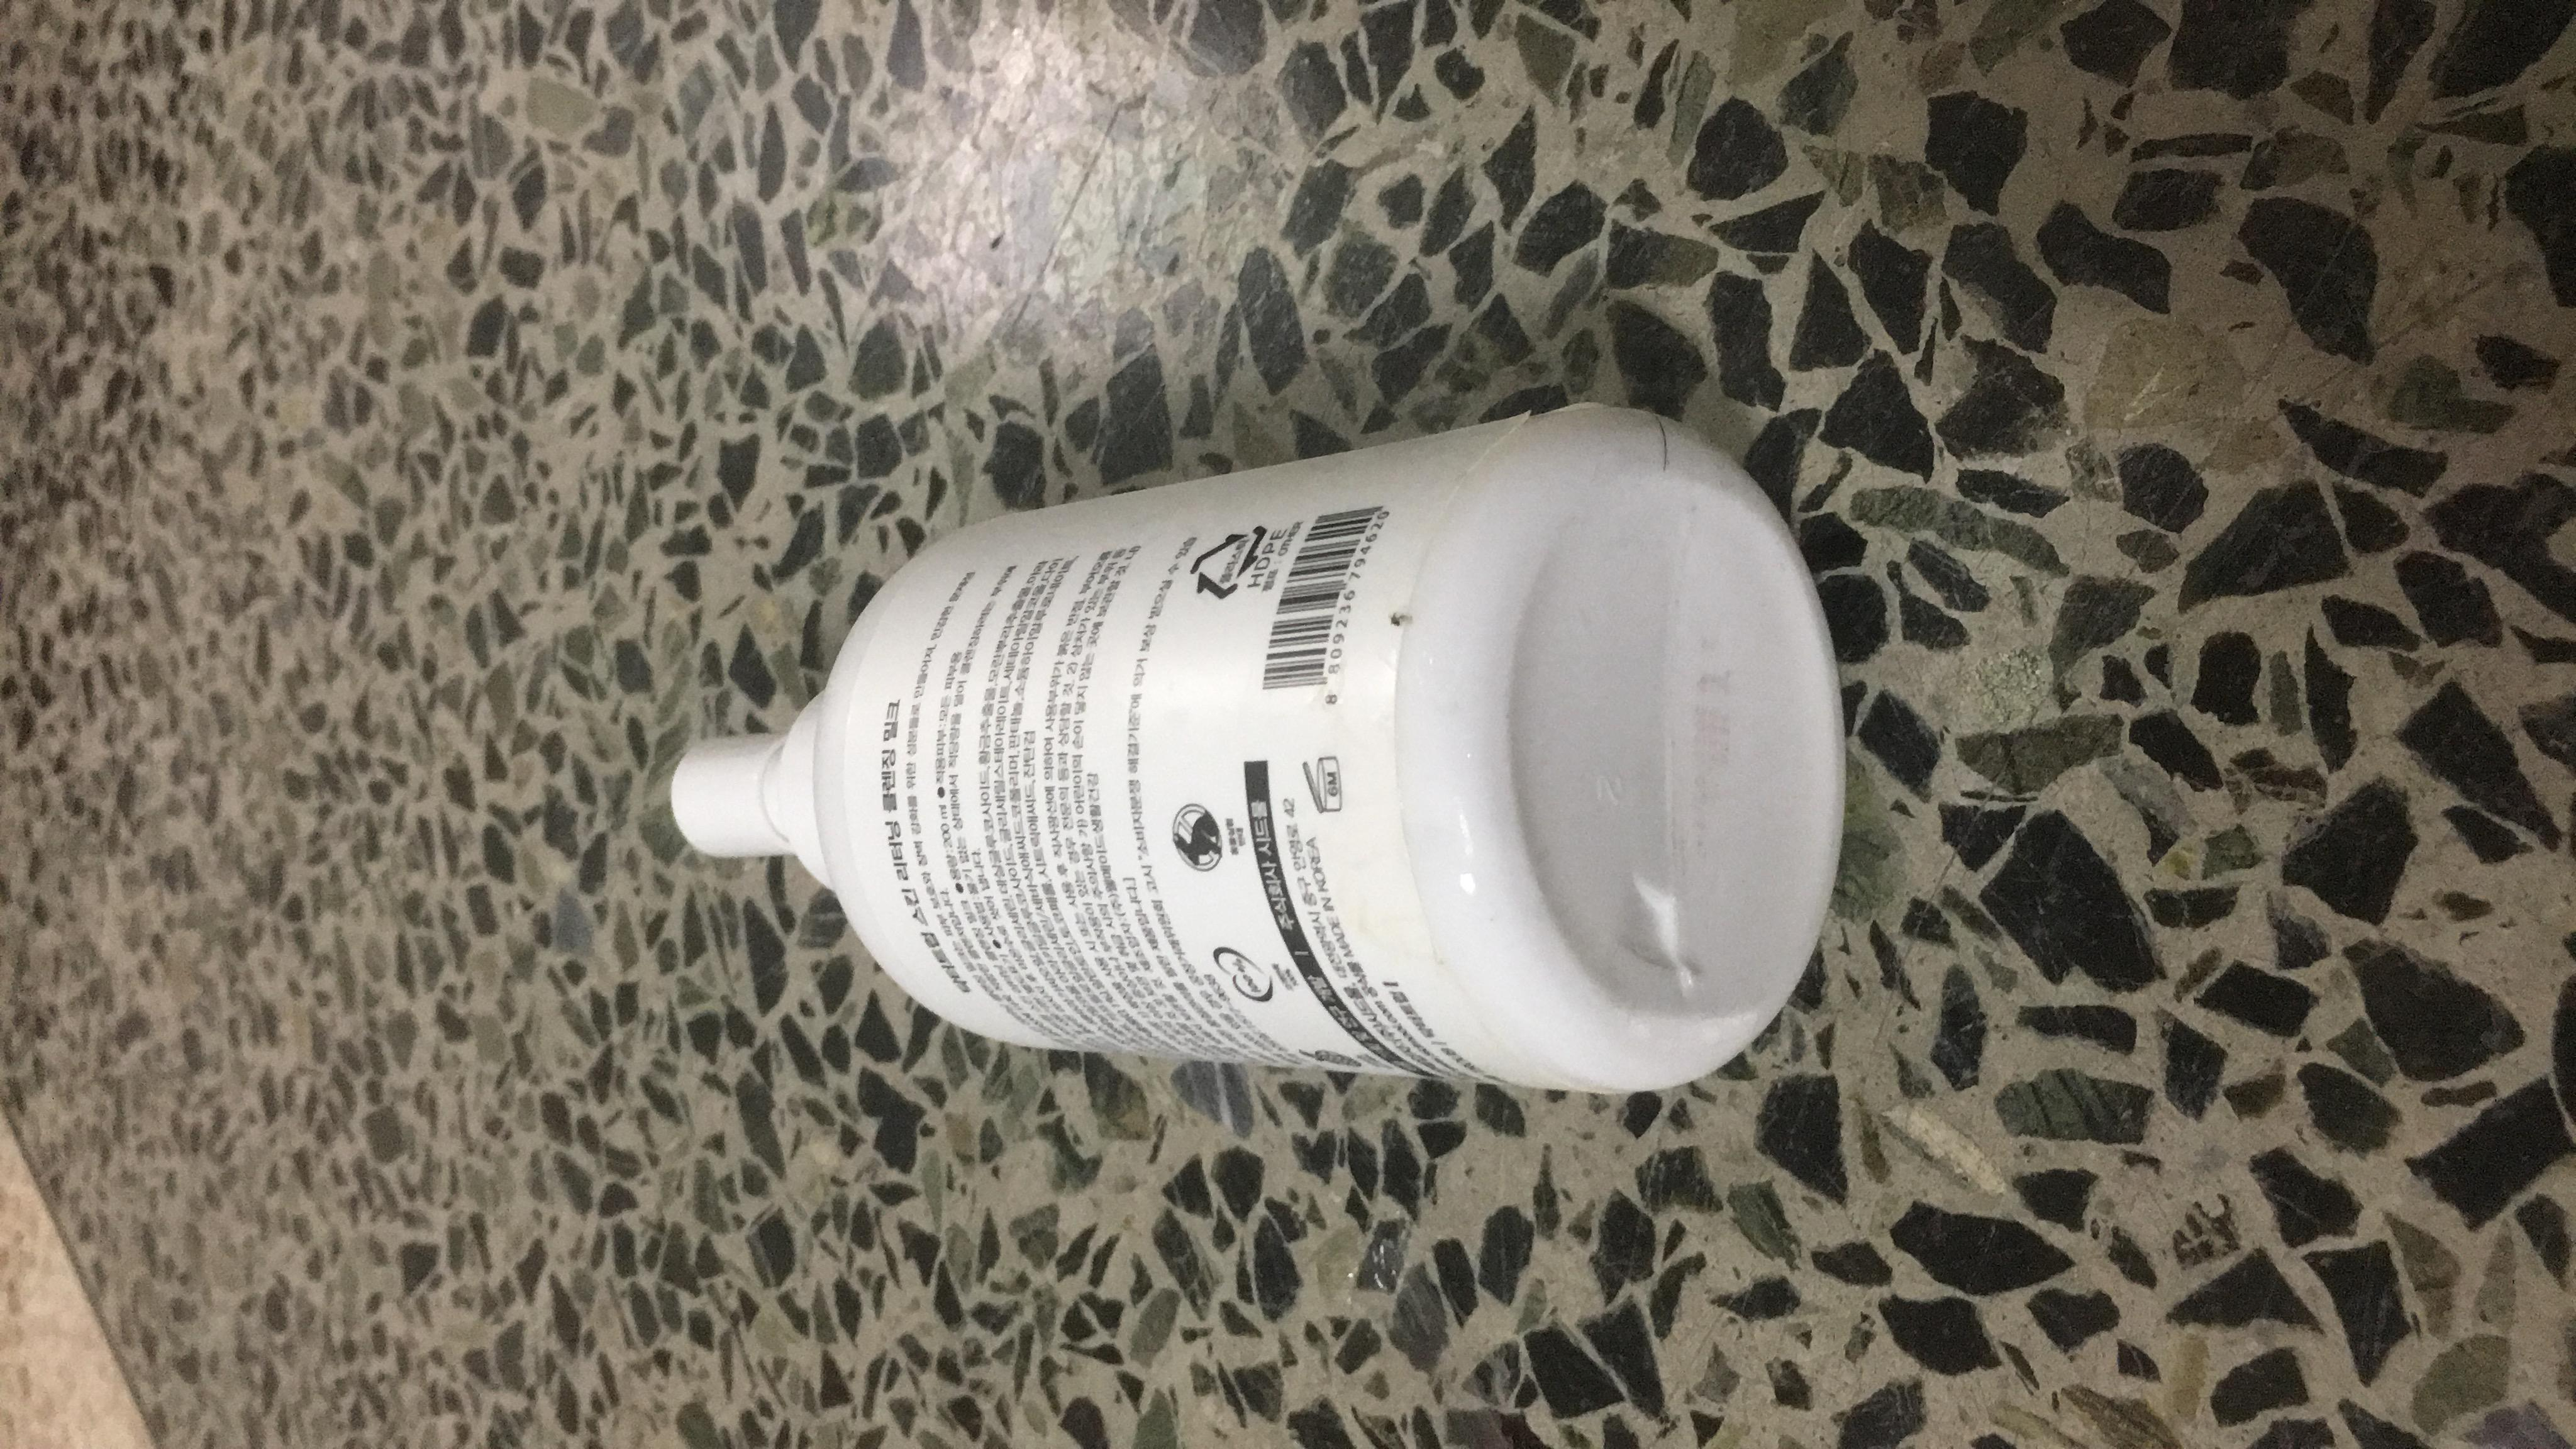bottle: (566, 219, 1974, 945)
